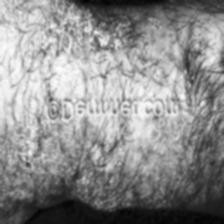Toxin: (40, 121, 189, 209), (35, 9, 181, 98)
